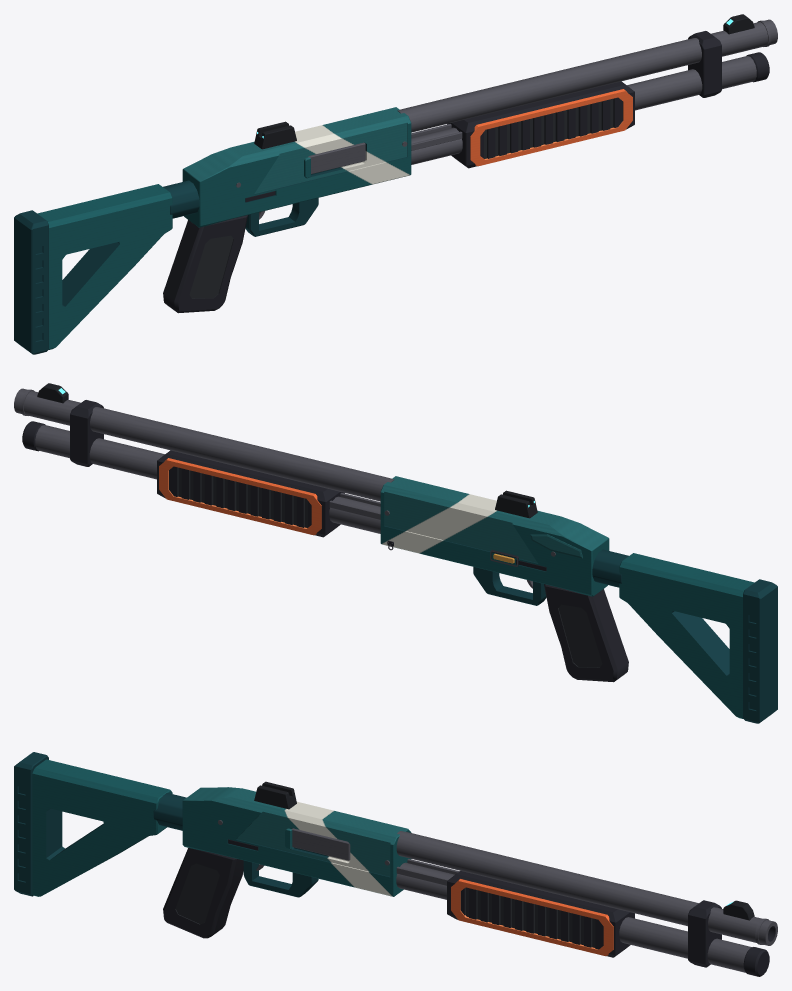
File: Bucky_Breakwater_v01.fbx
The picture shows the model from 3 angles, top to bottom: view 1: azimuth 30°, elevation 25°; view 2: azimuth 150°, elevation 25°; view 3: azimuth 330°, elevation 25°; orthographic projection.
Parts seen in each view (by area): view 1: Bucky_Stock, Bucky_Receiver, Bucky_Barrel, Bucky_Pump, Bucky_Grip, Breakwater_ForeBumper_R, Bucky_Sights, Bucky_Bolt; view 2: Bucky_Stock, Bucky_Receiver, Bucky_Barrel, Bucky_Pump, Bucky_Grip, Breakwater_ForeBumper_L, Bucky_Sights, Breakwater_Shoulder_L; view 3: Bucky_Barrel, Bucky_Receiver, Bucky_Stock, Bucky_Pump, Bucky_Grip, Breakwater_ForeBumper_R, Bucky_Sights, Bucky_Bolt.
Part boxes in pixels (x1=…): Bucky_Stock: x1=14, y1=180, x2=199, y2=354; Bucky_Receiver: x1=182, y1=107, x2=411, y2=236; Bucky_Barrel: x1=397, y1=19, x2=777, y2=164; Bucky_Pump: x1=411, y1=81, x2=634, y2=168; Bucky_Grip: x1=163, y1=215, x2=247, y2=313; Breakwater_ForeBumper_R: x1=470, y1=89, x2=632, y2=166; Bucky_Sights: x1=254, y1=14, x2=754, y2=149; Bucky_Bolt: x1=308, y1=142, x2=365, y2=174; Bucky_Stock: x1=592, y1=549, x2=777, y2=723; Bucky_Receiver: x1=380, y1=476, x2=609, y2=605; Bucky_Barrel: x1=14, y1=388, x2=394, y2=533; Bucky_Pump: x1=157, y1=450, x2=380, y2=537; Bucky_Grip: x1=544, y1=584, x2=628, y2=682; Breakwater_ForeBumper_L: x1=159, y1=458, x2=321, y2=535; Bucky_Sights: x1=37, y1=383, x2=537, y2=518; Breakwater_Shoulder_L: x1=530, y1=534, x2=582, y2=558; Bucky_Barrel: x1=396, y1=831, x2=777, y2=976; Bucky_Receiver: x1=182, y1=787, x2=411, y2=897; Bucky_Stock: x1=14, y1=752, x2=186, y2=896; Bucky_Pump: x1=396, y1=859, x2=634, y2=957; Bucky_Grip: x1=163, y1=848, x2=243, y2=938; Breakwater_ForeBumper_R: x1=451, y1=879, x2=613, y2=956; Bucky_Sights: x1=254, y1=781, x2=754, y2=920; Bucky_Bolt: x1=291, y1=828, x2=350, y2=860.
Size of the model in its own units: 378 by 78.48 by 17.71.
Materials: 12 (9 with a texture image).
